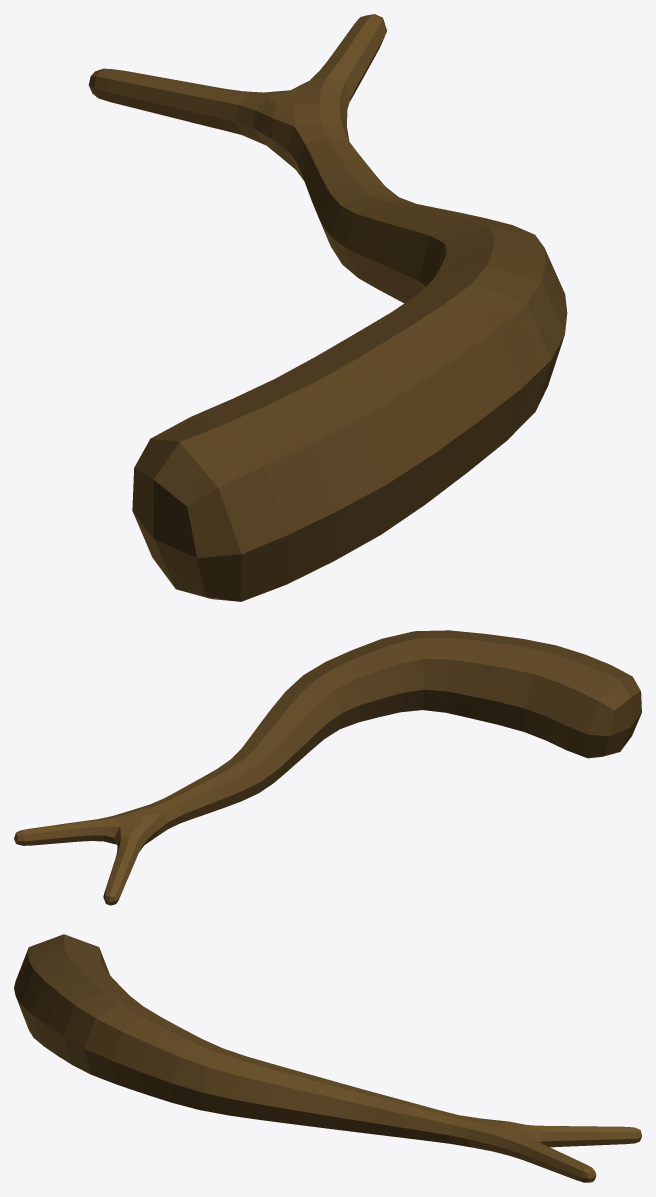
Rendered from roots_platform2.glb.
3 renders of one model, top to bottom at view 1: azimuth 30°, elevation 25°; view 2: azimuth 150°, elevation 25°; view 3: azimuth 270°, elevation 25°, orthographic. The views are drawn at different scales.
Parts seen in each view (by area): view 1: Cube.029; view 2: Cube.029; view 3: Cube.029.
Boxes of the visible parts, bbox=[...] form: Cube.029: bbox=[88, 14, 567, 601]; Cube.029: bbox=[14, 630, 641, 905]; Cube.029: bbox=[14, 934, 641, 1182].
Size of the model in its own units: 0.9171 by 0.2451 by 1.3.
1 material, 1 textured.
